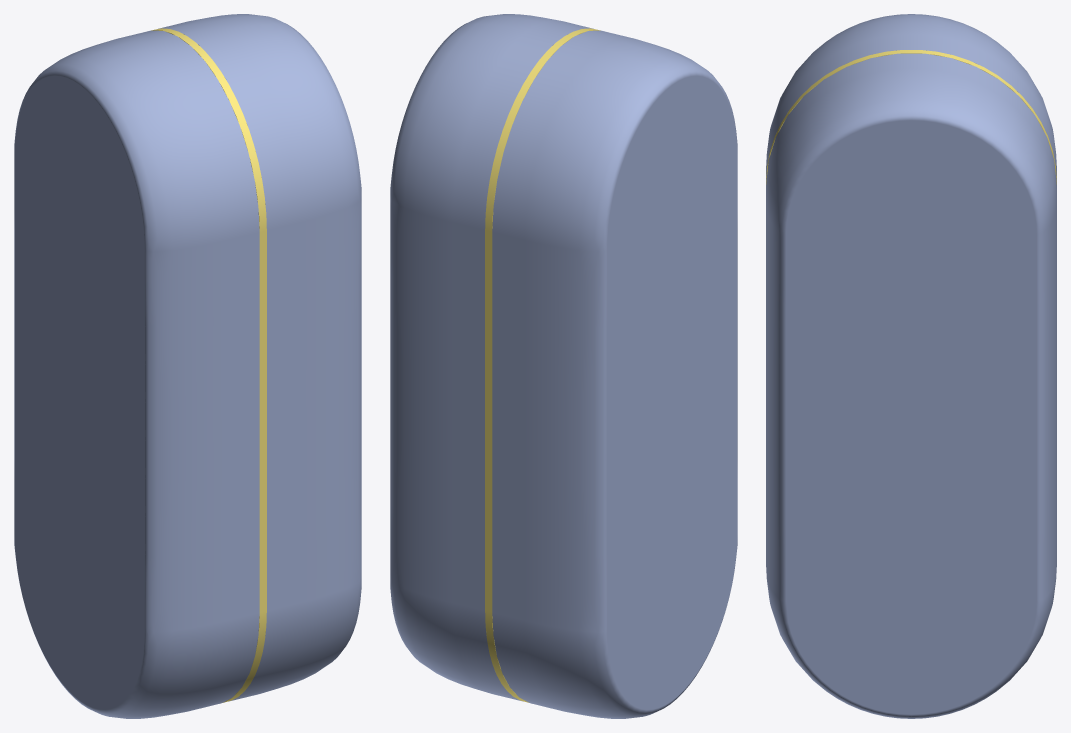
The model's file is 小原子右肩.glb.
3 views of the same model, side by side, from view 1: azimuth 30°, elevation 25°; view 2: azimuth 150°, elevation 25°; view 3: azimuth 270°, elevation 25° (orthographic). The views are drawn at different scales.
Size of the model in its own units: 0.0589 by 0.1698 by 0.071.
